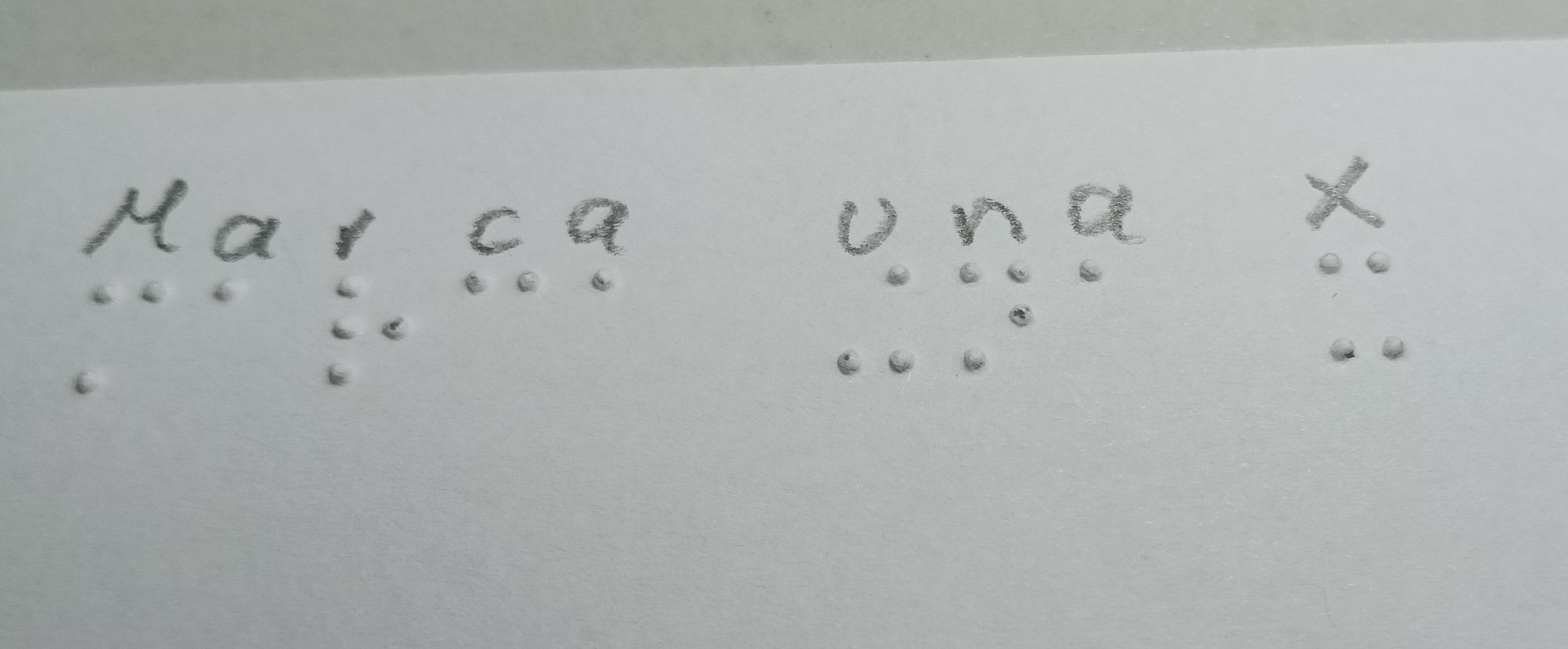a: (555, 262, 643, 312), (1054, 258, 1142, 301), (192, 267, 255, 319)
c: (449, 263, 547, 309)
m: (67, 255, 179, 403)
n: (944, 255, 1039, 375)
r: (311, 275, 420, 395)
u: (818, 265, 934, 379)
x: (1292, 236, 1420, 385)
